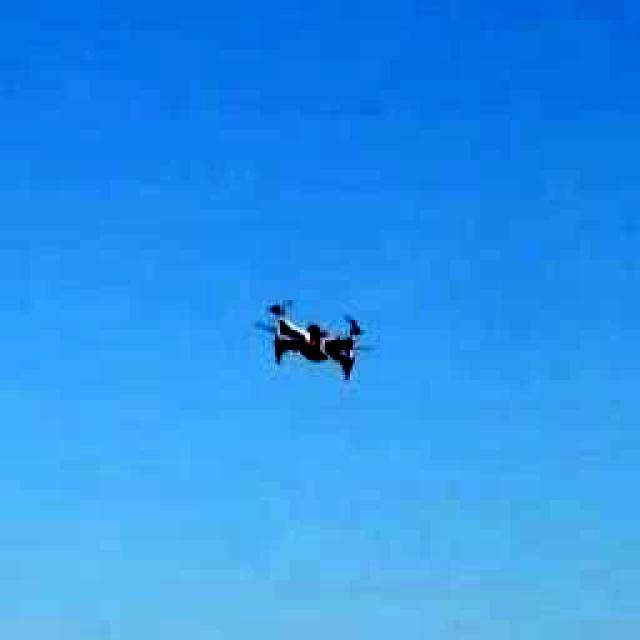bird: (235, 252, 388, 412)
